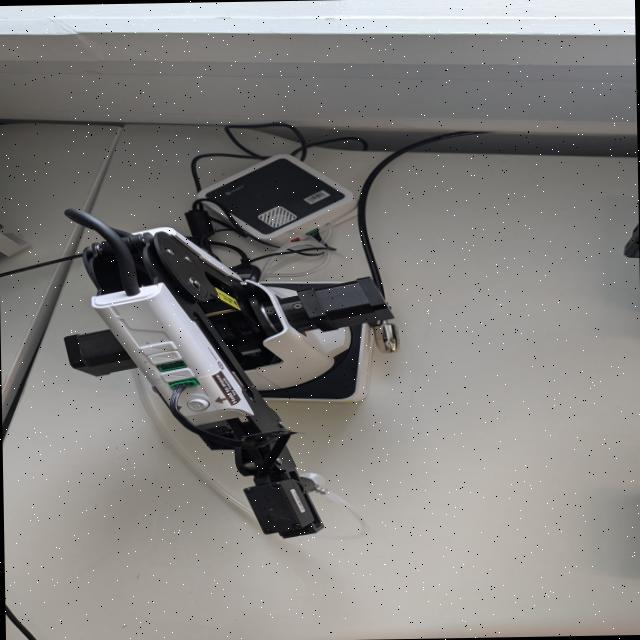Robot-end-effector-HF8z: (232, 467, 336, 543)
